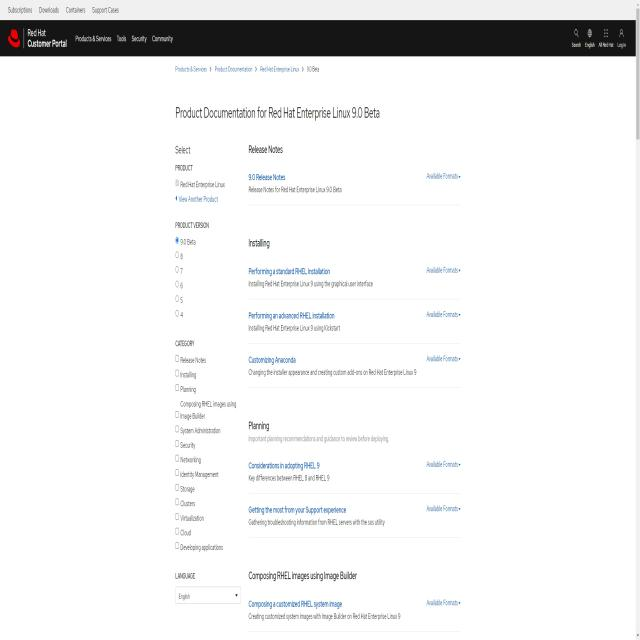menu-bar: (70, 28, 188, 55)
tab-bar: (4, 1, 124, 18)
